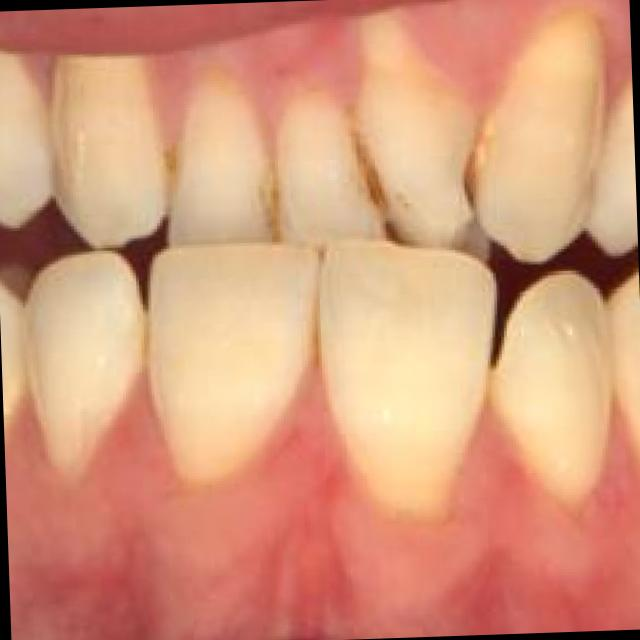cavity: (451, 125, 496, 221), (350, 129, 391, 233), (254, 166, 288, 242), (154, 148, 182, 200)
